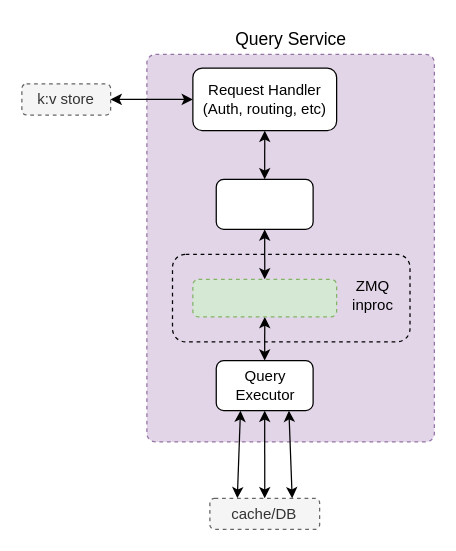
Image size: 456x551. Some labels were removed from this diagram. The shapes that lost their labels are listed below. From the top down, each one's centre as x and y in pixels, then its label:
[264,203]: Query Translator
[264,297]: In memory buffer
